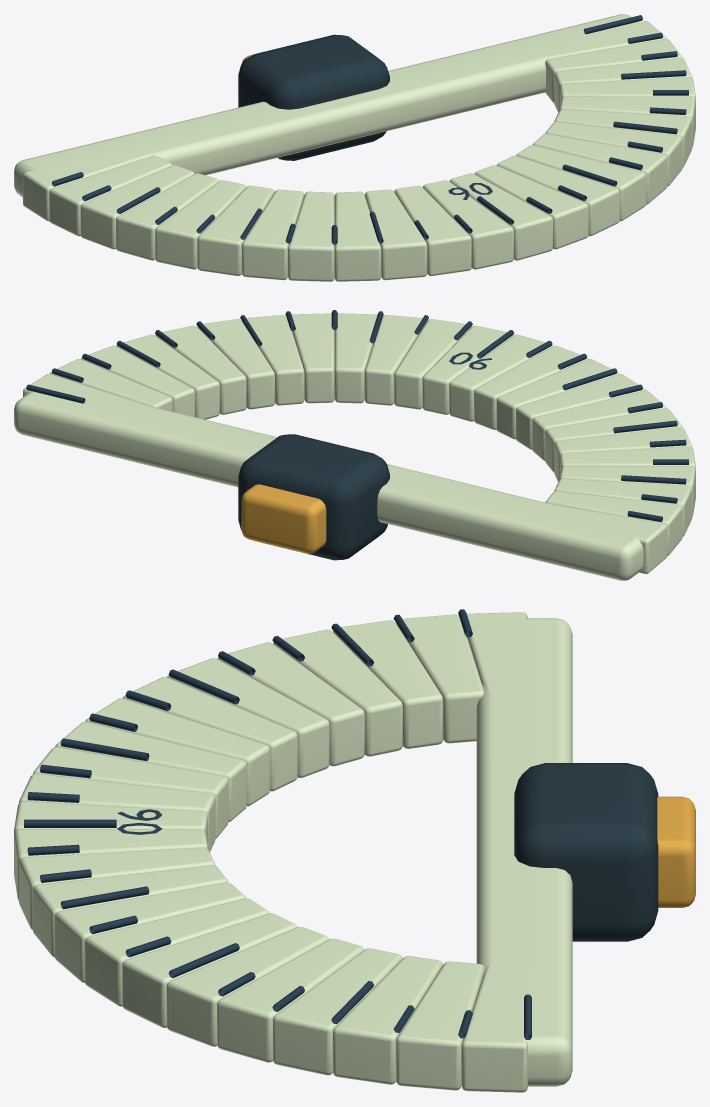
The model's file is part_protractor.glb.
3 renders of one model, top to bottom at view 1: azimuth 30°, elevation 25°; view 2: azimuth 150°, elevation 25°; view 3: azimuth 270°, elevation 25°, orthographic. The views are drawn at different scales.
Parts seen in each view (by area): view 1: Protractor baseline, Universal rubber mounting pad.018, Semicircle clear scale segment.015, Semicircle clear scale segment.016, Semicircle clear scale segment.017, Semicircle clear scale segment.014, Semicircle clear scale segment.013, Semicircle clear scale segment.018, Semicircle clear scale segment.019, Semicircle clear scale segment.012, Semicircle clear scale segment.020, Semicircle clear scale segment.010 (+15 smaller); view 2: Protractor baseline, Universal rubber mounting pad.018, Snap-in brass tongue.018, Semicircle clear scale segment.007, Semicircle clear scale segment.009, Semicircle clear scale segment.008, Semicircle clear scale segment.010, Semicircle clear scale segment.005, Semicircle clear scale segment.006, Semicircle clear scale segment.004, Semicircle clear scale segment.012, Semicircle clear scale segment.013 (+16 smaller); view 3: Protractor baseline, Universal rubber mounting pad.018, Semicircle clear scale segment.001, Semicircle clear scale segment.002, Semicircle clear scale segment.003, Semicircle clear scale segment.004, Semicircle clear scale segment.005, Semicircle clear scale segment.006, Semicircle clear scale segment.020, Semicircle clear scale segment.021, Semicircle clear scale segment.007, Semicircle clear scale segment.022 (+18 smaller).
Boxes of the visible parts, <box> form: Protractor baseline: <box>14,14,646,197</box>; Universal rubber mounting pad.018: <box>238,34,389,160</box>; Semicircle clear scale segment.015: <box>334,191,381,281</box>; Semicircle clear scale segment.016: <box>288,191,334,281</box>; Semicircle clear scale segment.017: <box>242,189,304,280</box>; Semicircle clear scale segment.014: <box>364,189,427,280</box>; Semicircle clear scale segment.013: <box>394,185,471,275</box>; Semicircle clear scale segment.018: <box>197,185,274,275</box>; Semicircle clear scale segment.019: <box>155,180,246,269</box>; Semicircle clear scale segment.012: <box>422,180,513,269</box>; Semicircle clear scale segment.020: <box>116,173,219,260</box>; Semicircle clear scale segment.010: <box>474,165,588,249</box>; Protractor baseline: <box>14,383,645,580</box>; Universal rubber mounting pad.018: <box>238,434,389,560</box>; Snap-in brass tongue.018: <box>241,484,326,553</box>; Semicircle clear scale segment.007: <box>291,313,334,403</box>; Semicircle clear scale segment.009: <box>364,315,426,405</box>; Semicircle clear scale segment.008: <box>334,313,377,403</box>; Semicircle clear scale segment.010: <box>394,319,471,409</box>; Semicircle clear scale segment.005: <box>197,319,274,409</box>; Semicircle clear scale segment.006: <box>242,315,304,405</box>; Semicircle clear scale segment.004: <box>155,325,246,414</box>; Semicircle clear scale segment.012: <box>449,334,552,421</box>; Semicircle clear scale segment.013: <box>474,345,587,429</box>; Protractor baseline: <box>476,618,572,1086</box>; Universal rubber mounting pad.018: <box>514,763,658,941</box>; Semicircle clear scale segment.001: <box>396,961,483,1090</box>; Semicircle clear scale segment.002: <box>333,956,442,1084</box>; Semicircle clear scale segment.003: <box>273,948,402,1075</box>; Semicircle clear scale segment.004: <box>217,938,364,1062</box>; Semicircle clear scale segment.005: <box>166,927,328,1046</box>; Semicircle clear scale segment.006: <box>122,913,297,1027</box>; Semicircle clear scale segment.020: <box>273,629,402,756</box>; Semicircle clear scale segment.021: <box>333,620,442,748</box>; Semicircle clear scale segment.007: <box>84,898,269,1006</box>; Semicircle clear scale segment.022: <box>396,614,483,743</box>.
Size of the model in its own units: 0.03 by 0.0038 by 0.0199.
